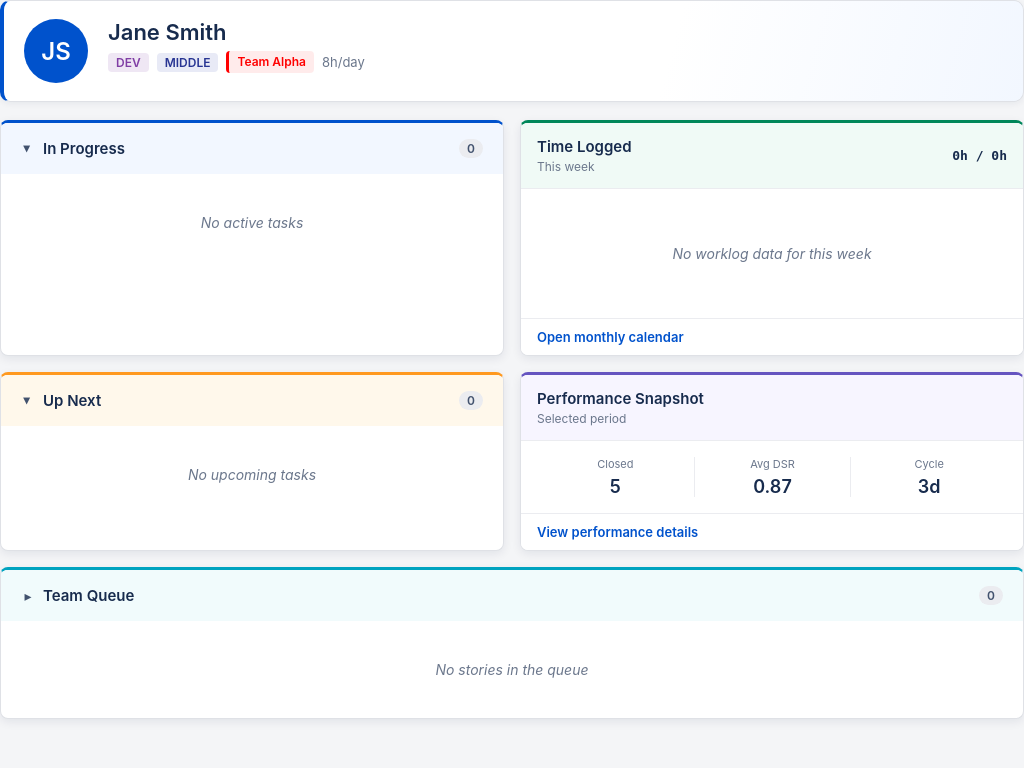
Test: MyWorkPage › renders performance cards and breakdowns
Click the button "View performance details" at (618, 532), box [521,513,1023,550]
(page scrolled)
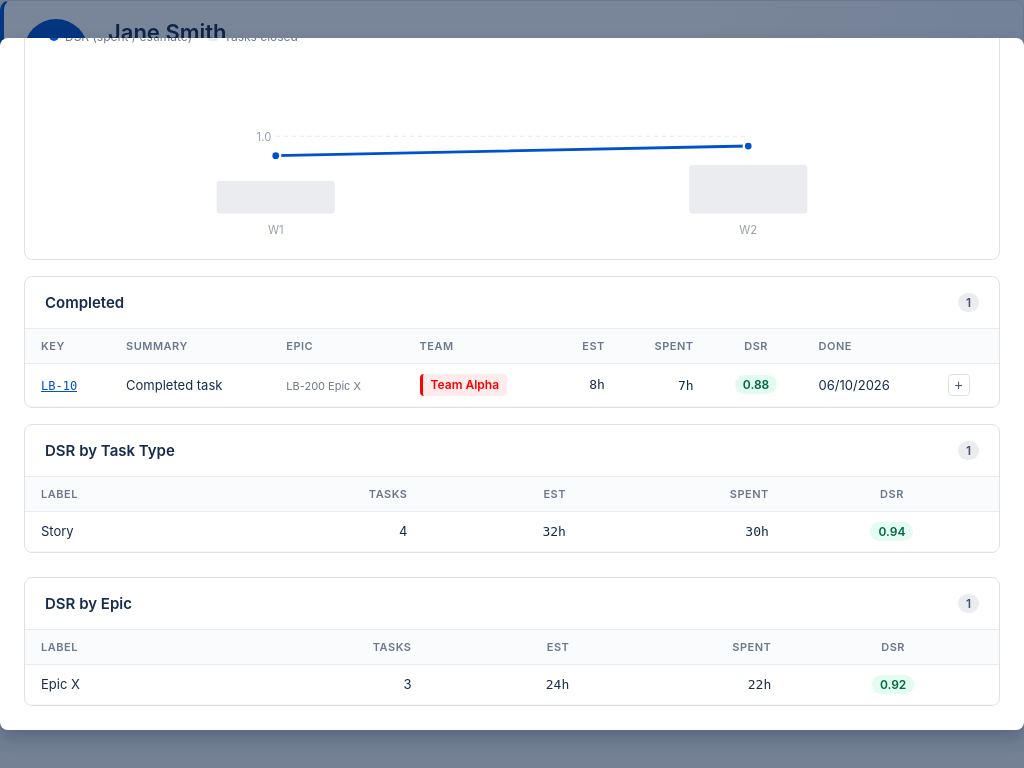
Check: the heading "DSR by Task Type" is shown, box [45,441,175,460]
Check: the heading "DSR by Epic" is shown, box [45,594,132,613]
Check: the text "Epic X" is shown, box [25,664,227,704]
